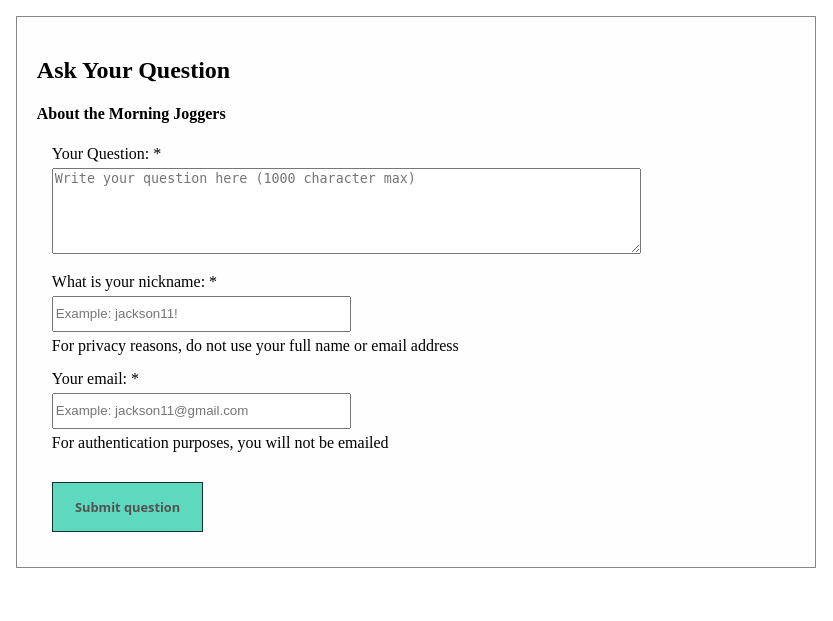
Test: Question Modal Component › should give an error message if user does not fill fields properly
Click the button "Submit question": (128, 507) [52, 482, 204, 532]
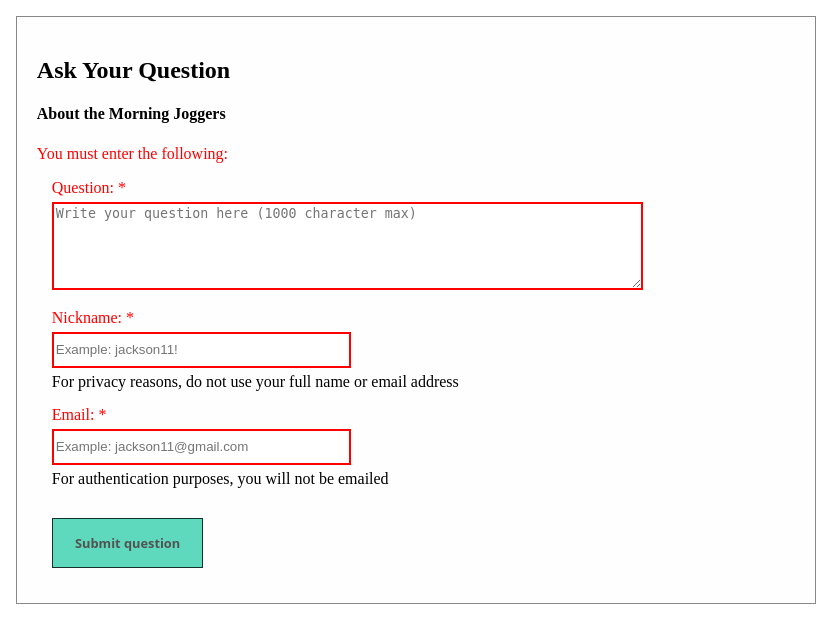
Check: the text box with placeholder "Write your question here (1000 character max)" is shown, box [52, 202, 642, 290]
Check: the text "You must enter the following:" is shown, box [37, 145, 228, 162]
